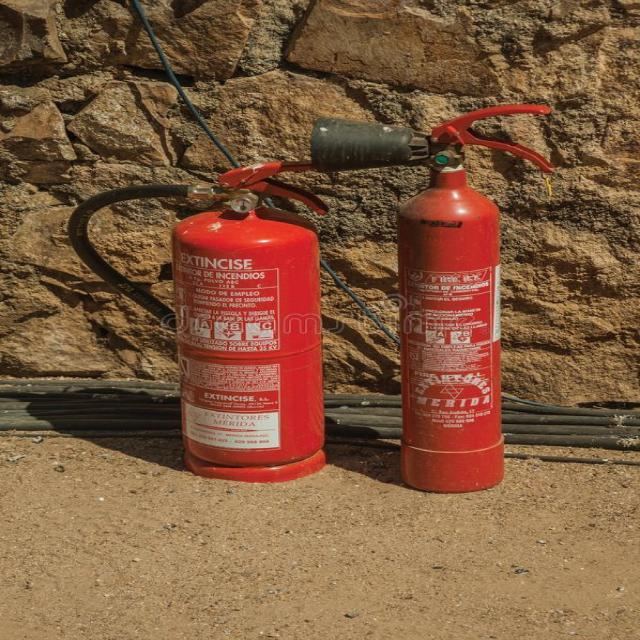fire_extinguisher: (306, 96, 564, 498), (59, 157, 355, 489)
